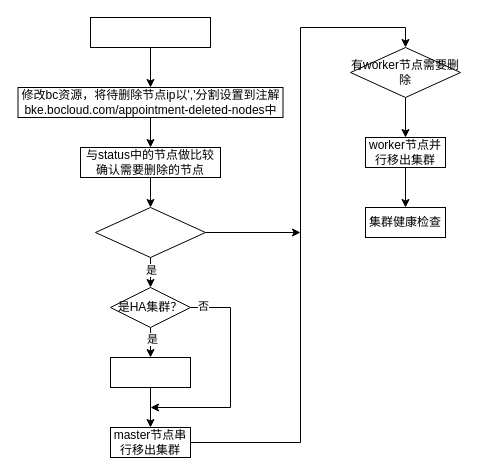
Image size: 478x475. Some labels were removed from this diagram. Each missing label, with the box of its shape:
修改bc资源，从spec中删除指定节点: (90, 16, 210, 48)
有master节点需要删除: (94, 206, 206, 258)
重新配置负载均衡器: (110, 356, 190, 388)
